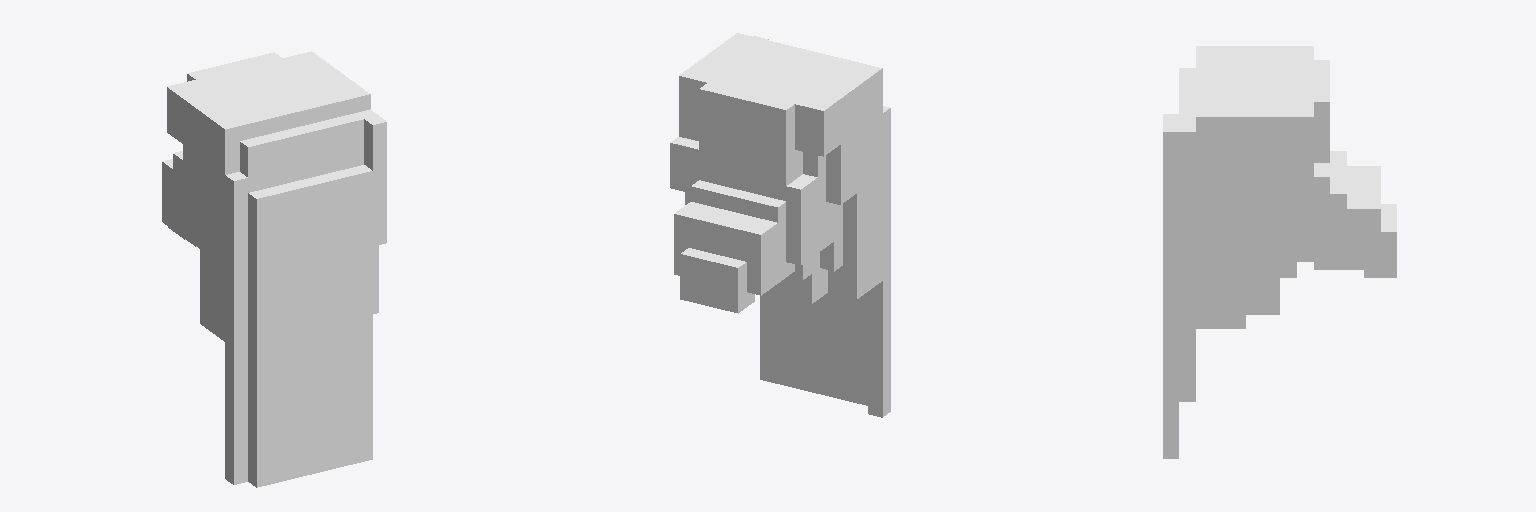
Rendered from mob1-0.obj.
3 renders of one model, left to right at view 1: azimuth 30°, elevation 25°; view 2: azimuth 150°, elevation 25°; view 3: azimuth 270°, elevation 25°, orthographic.
Parts seen in each view (by area): view 1: object 1; view 2: object 1; view 3: object 1.
Boxes of the visible parts, box(x1,y1,x2,y2) form: object 1: box(162, 51, 386, 487); object 1: box(670, 33, 890, 417); object 1: box(1163, 46, 1396, 458).
Bounding box in the file's own units: 1 × 2.3 × 1.4.